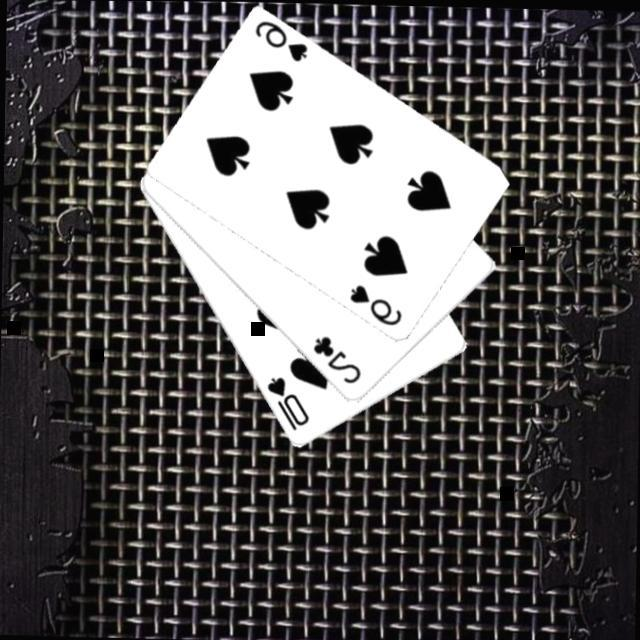10S: (262, 371, 312, 432)
2C: (309, 330, 366, 385)
6S: (251, 14, 312, 64), (347, 279, 406, 326)
